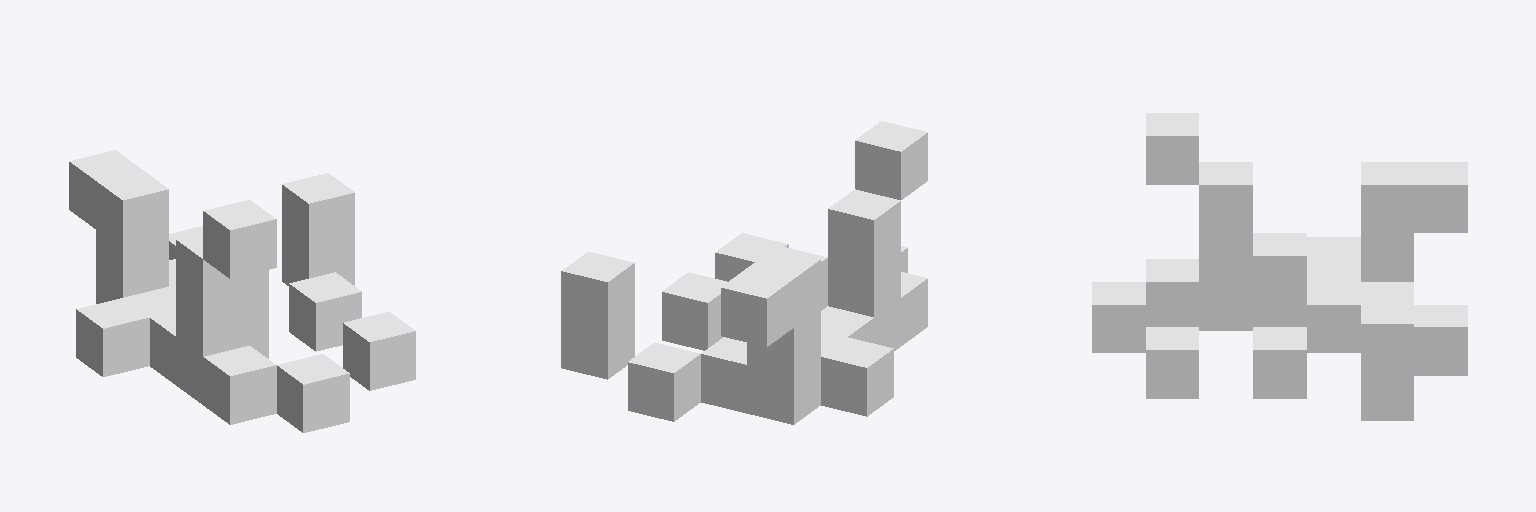
File: grass2.obj
3 views of the same model, side by side, from view 1: azimuth 30°, elevation 25°; view 2: azimuth 150°, elevation 25°; view 3: azimuth 270°, elevation 25° (orthographic).
Parts seen in each view (by area): view 1: grass2; view 2: grass2; view 3: grass2.
Part boxes in pixels (left/top/right/bottom): grass2: left=69, top=150, right=415, bottom=432; grass2: left=561, top=121, right=927, bottom=424; grass2: left=1092, top=113, right=1467, bottom=420.
Bounding box in the file's own units: 0.6 × 0.4 × 0.7.